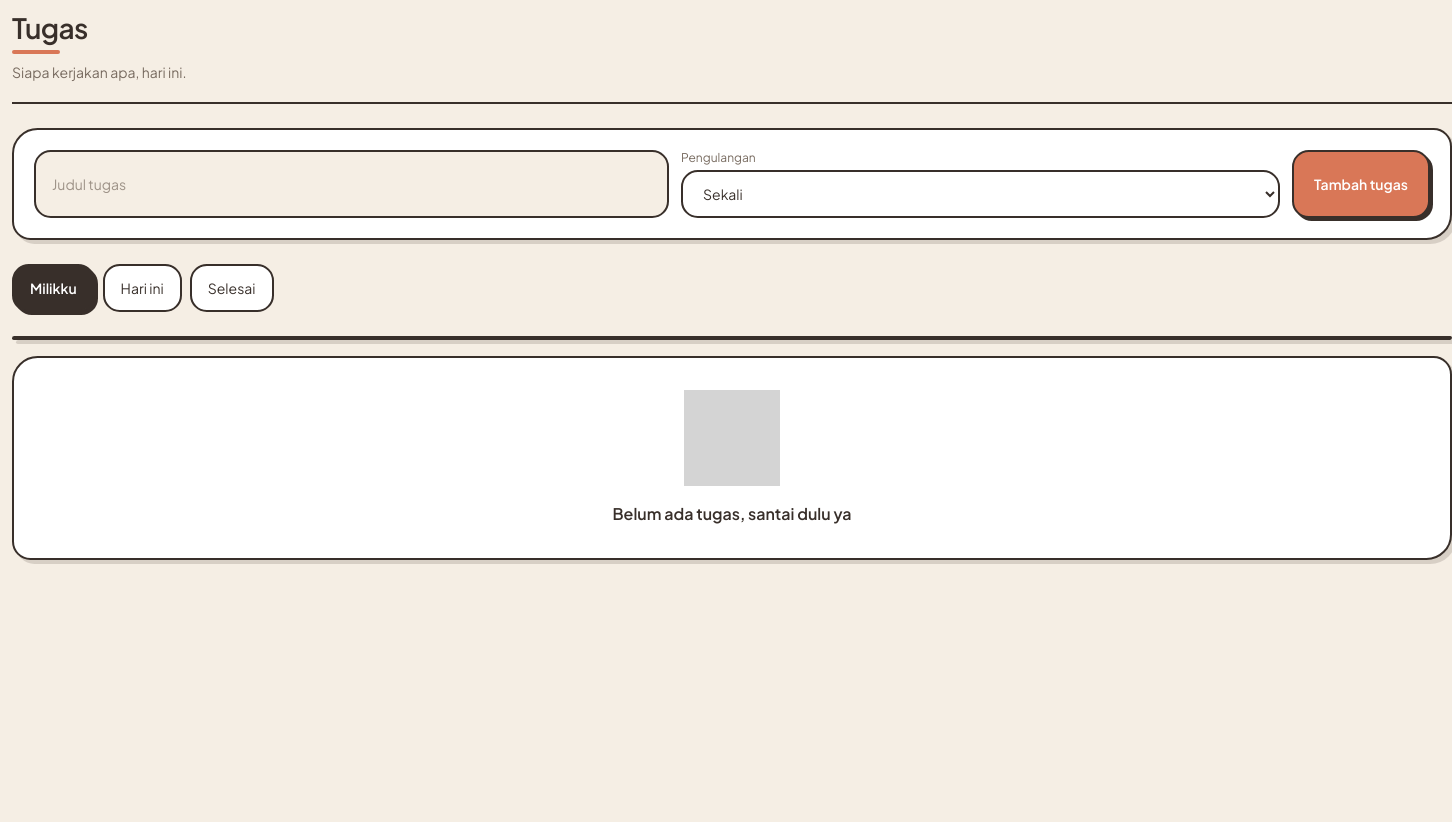
Test case: tambah kirim pengulangan ke POST
expect the text "Belum ada tugas, santai dulu ya" is shown: met, box [612,503,851,524]
Step 1. Type "Siram tanaman" into the field labelled "Judul tugas" → (352, 184), box [34,150,669,218]
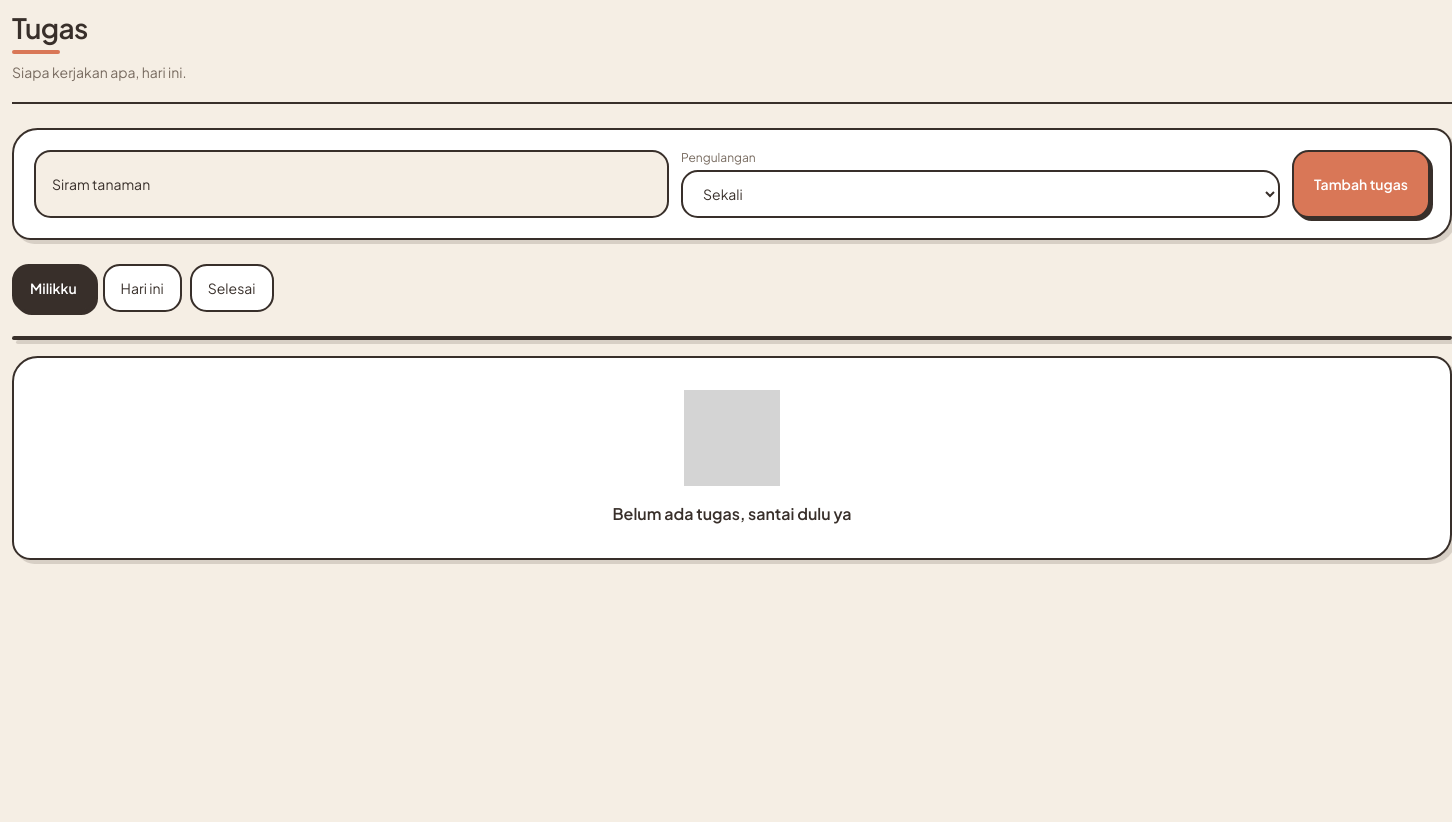
Step 2. Select "Harian" in the dropdown labelled "Pengulangan" → (980, 194), box [681,170,1280,218]
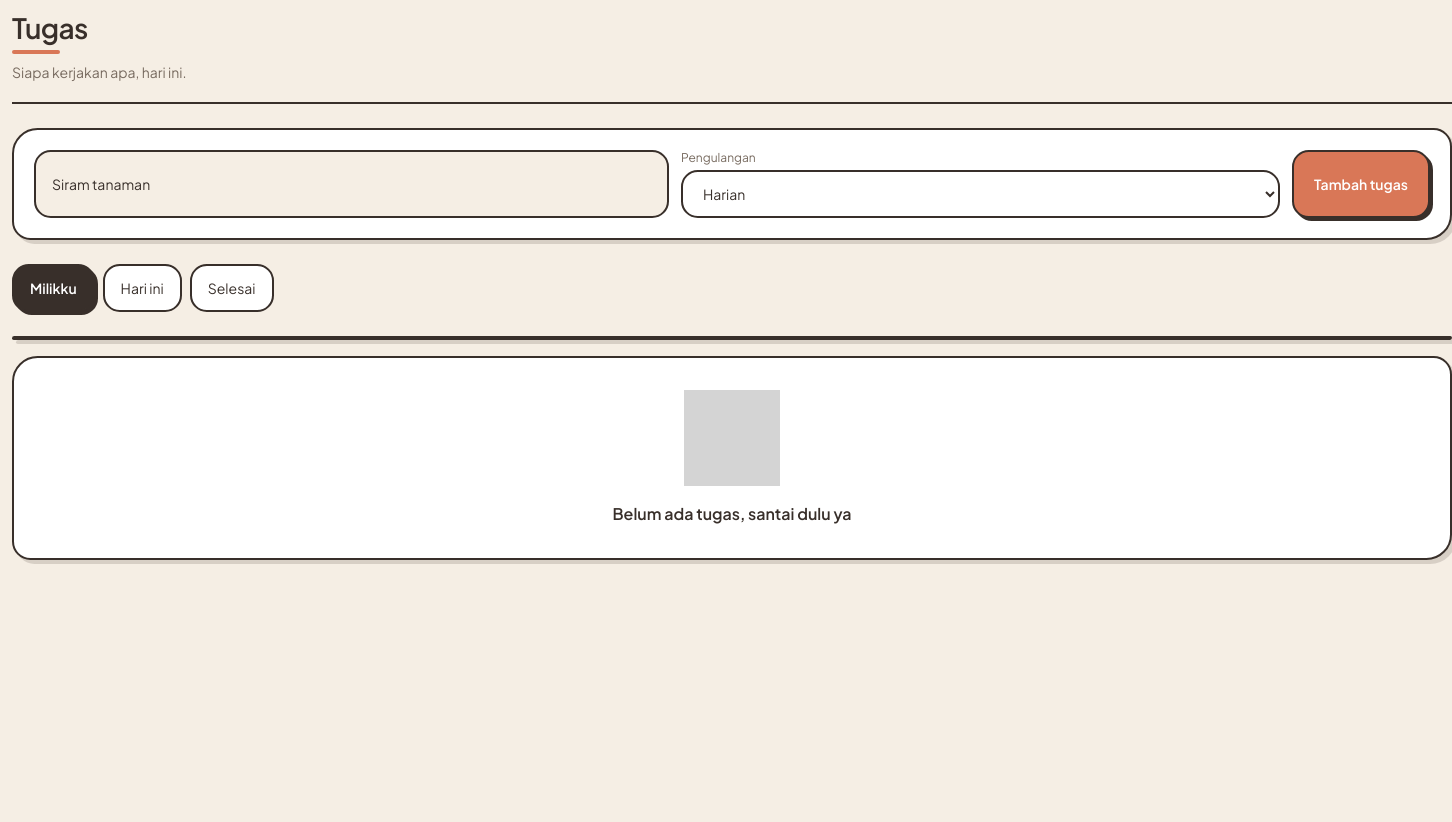
Step 3. Click the button "Tambah tugas" → (1361, 184), box [1292,150,1430,218]
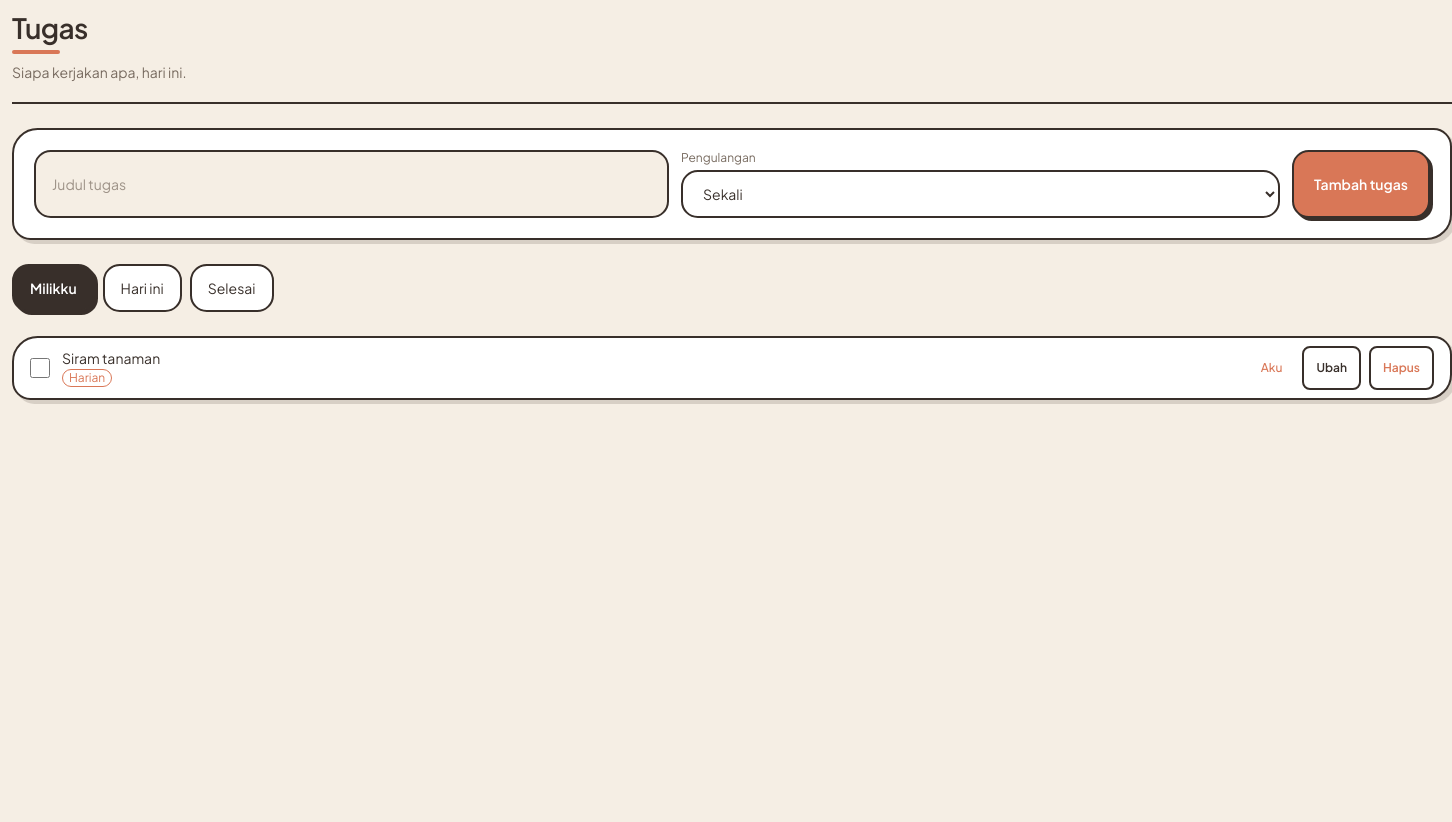
expect the text "Siram tanaman" is shown: met, box [62,349,160,367]
